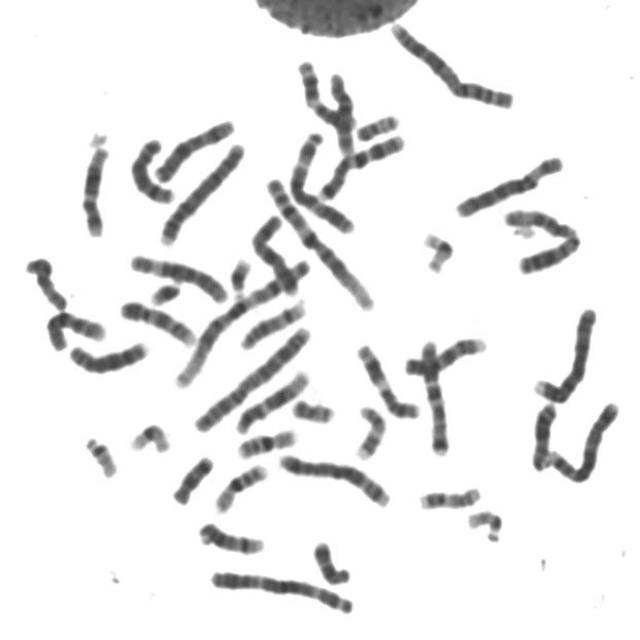A1: (168, 248, 314, 390), (256, 170, 378, 313)
A2: (187, 318, 315, 436), (385, 14, 518, 111)
A3: (202, 562, 358, 616), (283, 124, 358, 235)
B4: (152, 134, 248, 247), (527, 298, 600, 404)
B5: (273, 446, 394, 509), (541, 394, 622, 484)
C10: (39, 302, 109, 352), (322, 65, 358, 156)
C11: (350, 336, 423, 422), (291, 52, 358, 133)
C12: (228, 361, 314, 436), (73, 137, 113, 239)
C6: (448, 146, 568, 218), (124, 245, 231, 305)
C7: (312, 126, 408, 202), (412, 331, 453, 458)
C8: (124, 130, 177, 205), (62, 332, 152, 376)
C9: (114, 292, 200, 348), (398, 329, 489, 378)
D13: (524, 395, 560, 472), (513, 239, 584, 278)
D14: (234, 292, 311, 351), (191, 514, 268, 557)
D15: (498, 204, 581, 245), (19, 248, 70, 313)
E16: (208, 455, 271, 515), (230, 420, 300, 460)
E17: (348, 397, 389, 462), (412, 478, 484, 512)
E18: (166, 448, 217, 506), (306, 533, 354, 587)
F19: (416, 223, 457, 275), (123, 415, 174, 455)
F20: (351, 105, 402, 142), (285, 390, 338, 424)
G21: (224, 250, 256, 300), (143, 273, 184, 307)
G22: (78, 429, 121, 480), (461, 502, 506, 545)
X: (149, 110, 239, 185), (245, 207, 302, 297)
